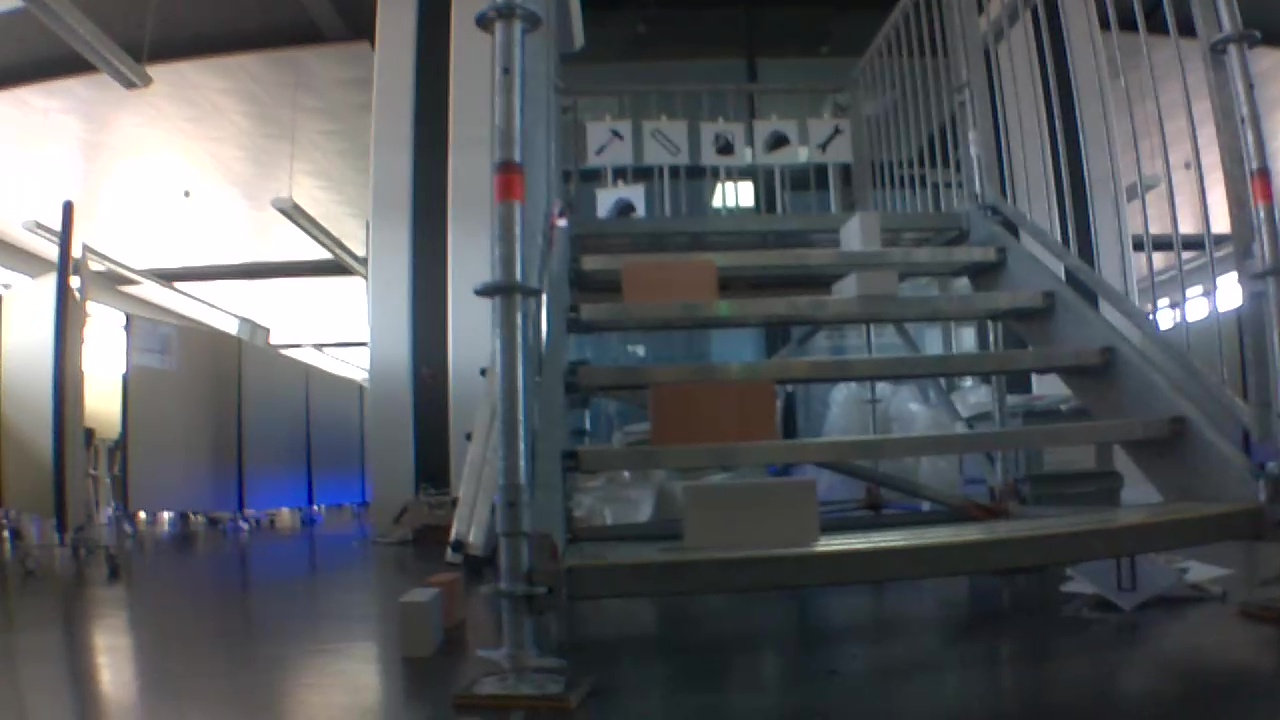brick: (682, 479, 820, 546), (650, 383, 775, 442), (621, 257, 715, 300), (398, 588, 439, 658), (831, 269, 899, 296), (428, 572, 462, 623), (839, 212, 879, 248)
bucket: (709, 125, 740, 158)
edge: (569, 505, 1260, 594), (565, 415, 1186, 469), (565, 346, 1116, 383), (568, 288, 1056, 319), (571, 246, 1008, 271), (568, 214, 966, 231)
hammer: (590, 125, 626, 159)
ruler: (646, 125, 682, 163)
stairs: (447, 3, 1280, 709)
steps: (559, 204, 1270, 623)
taco: (757, 124, 792, 157), (601, 193, 639, 218)
wrench: (812, 118, 847, 159)
